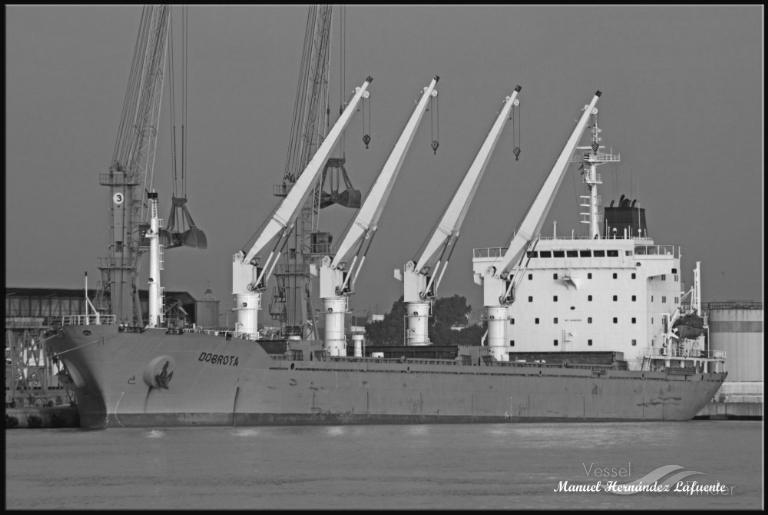OCR: (194, 342, 240, 370)
